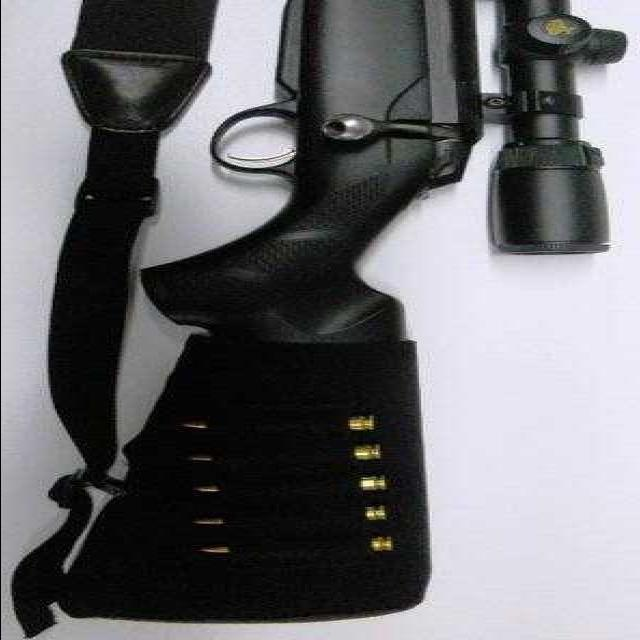heavyweapon: (109, 1, 629, 632)
